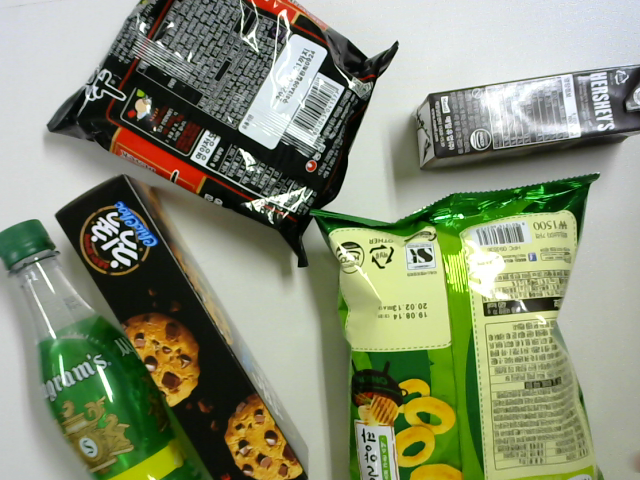Chicchok_Original_2400: (51, 176, 315, 480)
Grilled_Onions: (303, 174, 604, 480)
Hush_Choco_Drink: (415, 56, 640, 171)
Seagram_Lemon_Carbonated_Water: (1, 224, 191, 480)
Sinramen_Black: (45, 4, 395, 256)
